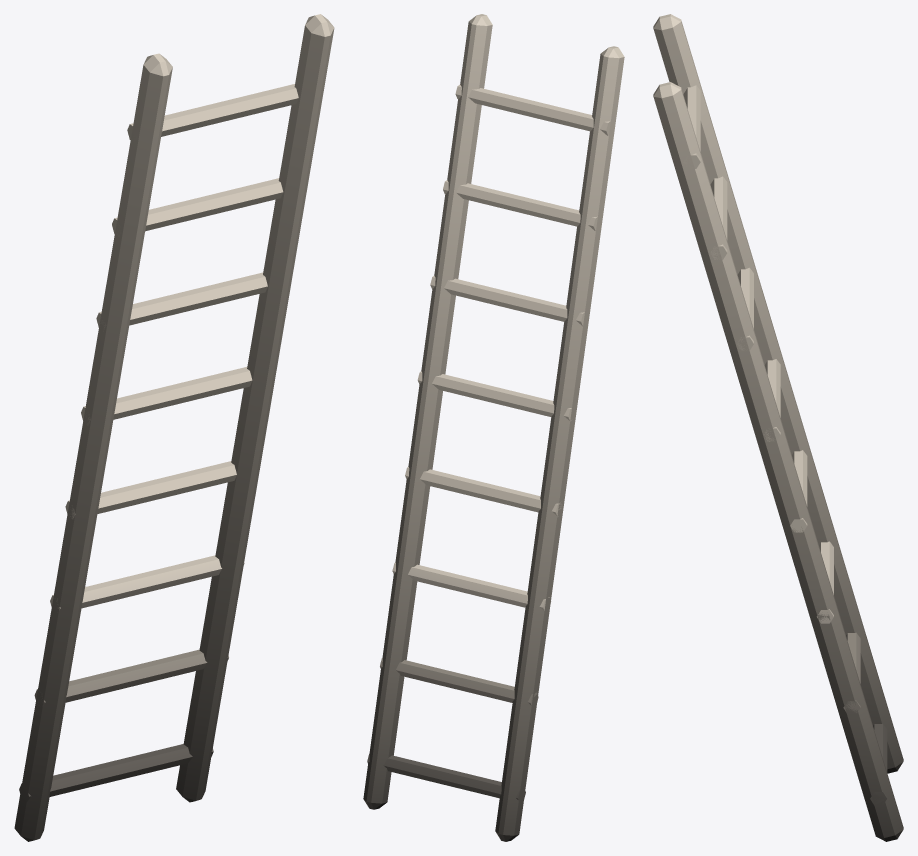
Rendered from SM_VK_Palisade_Ladder.fbx.
3 views of the same model, side by side, from view 1: azimuth 30°, elevation 25°; view 2: azimuth 150°, elevation 25°; view 3: azimuth 270°, elevation 25° (orthographic). The views are drawn at different scales.
Visible parts, largest first — view 1: SM_VK_Palisade_Ladder.001; view 2: SM_VK_Palisade_Ladder.001; view 3: SM_VK_Palisade_Ladder.001.
Part boxes in pixels (<box>): SM_VK_Palisade_Ladder.001: <box>14,14,334,841</box>; SM_VK_Palisade_Ladder.001: <box>363,14,624,841</box>; SM_VK_Palisade_Ladder.001: <box>653,14,903,841</box>.
Bounding box in the file's own units: 0.64 × 2.91 × 0.8707.
